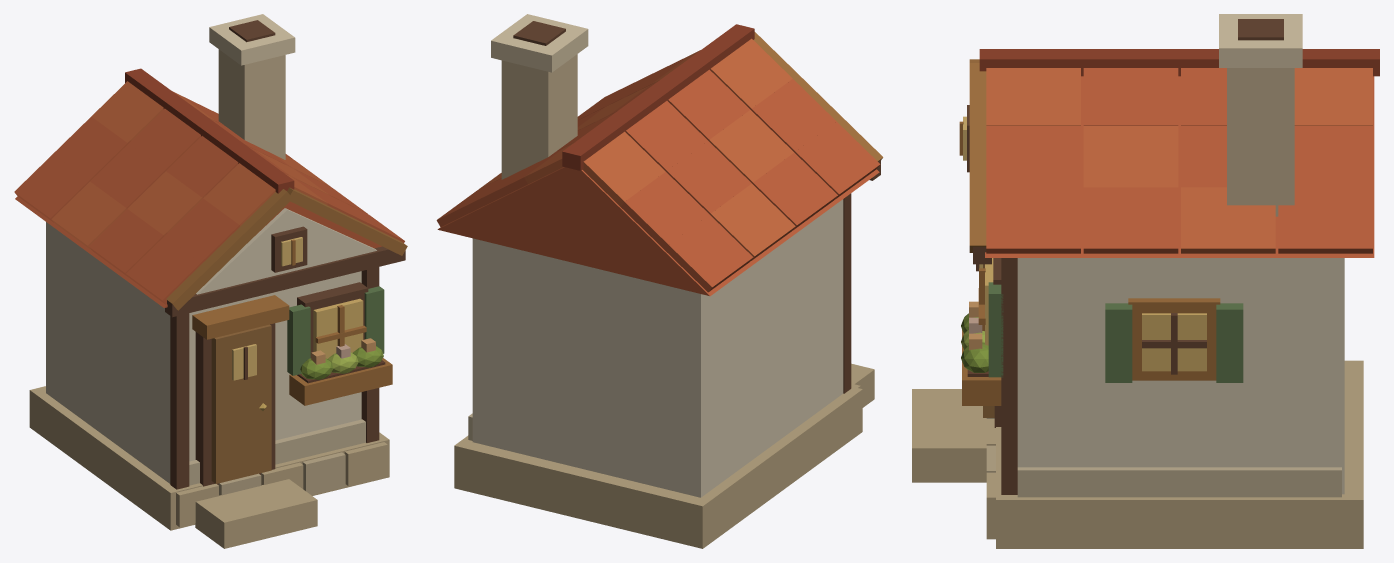
Rendered from residence.gltf.
3 views of the same model, side by side, from view 1: azimuth 30°, elevation 25°; view 2: azimuth 150°, elevation 25°; view 3: azimuth 270°, elevation 25° (orthographic). The views are drawn at different scales.
Parts seen in each view (by area): view 1: residence; view 2: residence; view 3: residence.
Boxes of the visible parts, <box> form: residence: <box>14,14,407,548</box>; residence: <box>436,14,883,548</box>; residence: <box>912,14,1379,548</box>.
Size of the model in its own units: 1.35 by 2.03 by 1.73.
